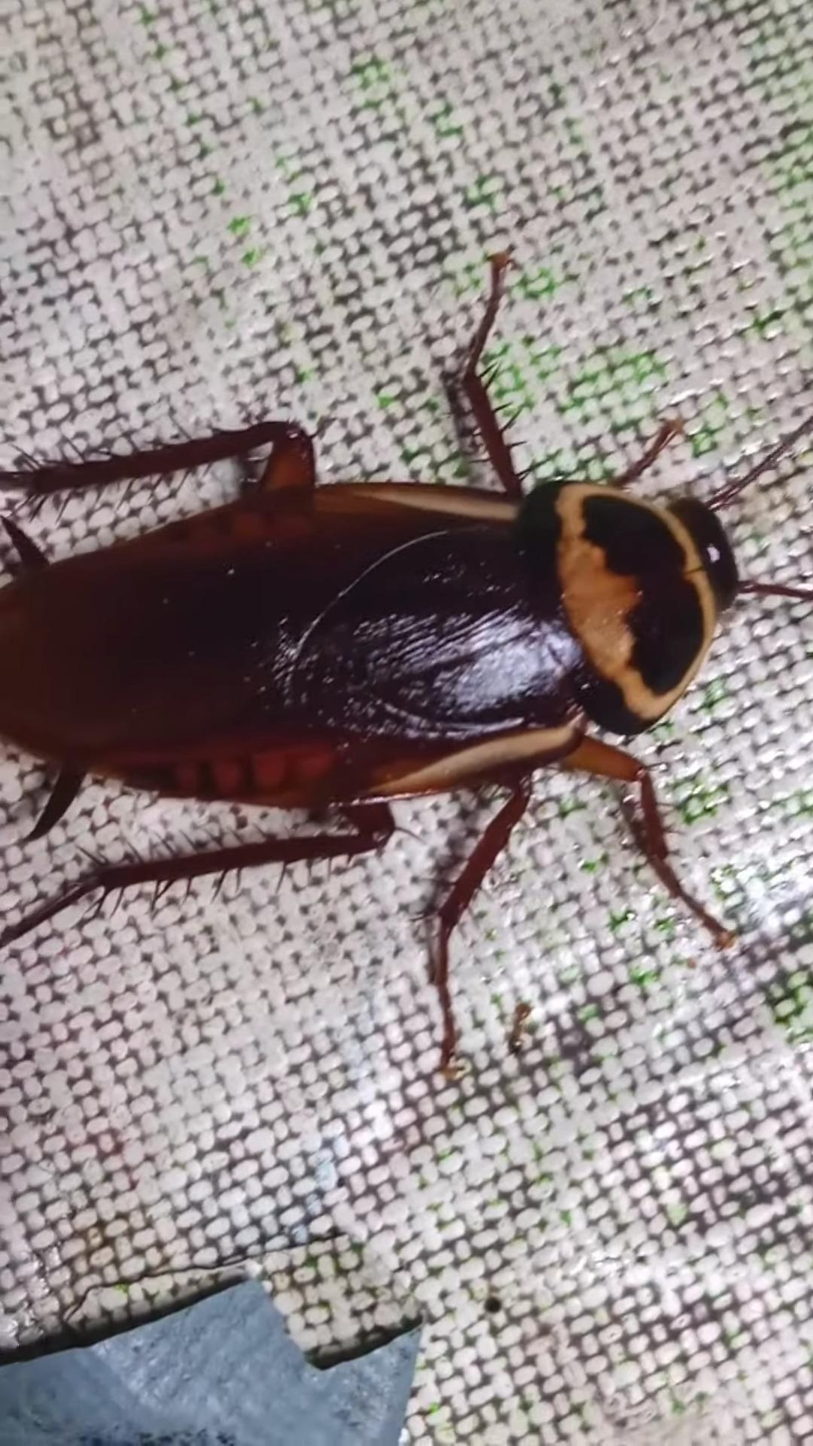cockroach: (0, 227, 813, 1097)
